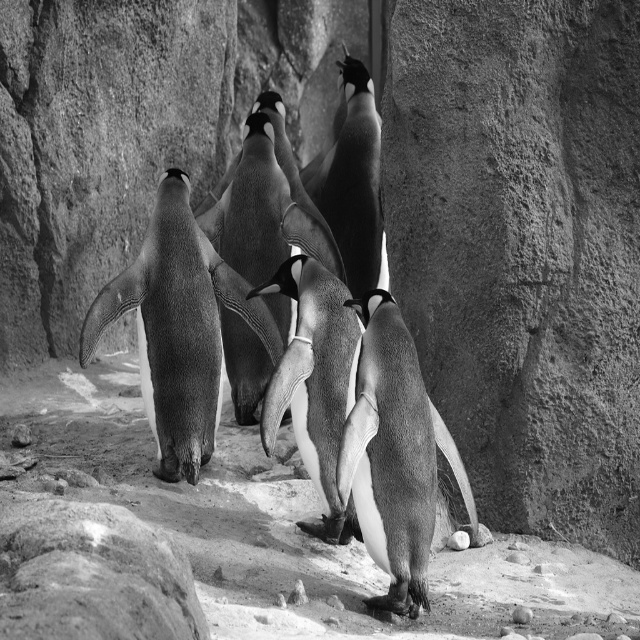Penguin: (79, 42, 479, 612)
